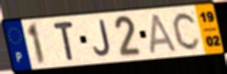1: (27, 21, 49, 68)
2: (115, 14, 144, 59)
A: (149, 12, 179, 55)
C: (171, 10, 203, 52)
J: (91, 18, 113, 58)
T: (51, 20, 76, 62)
